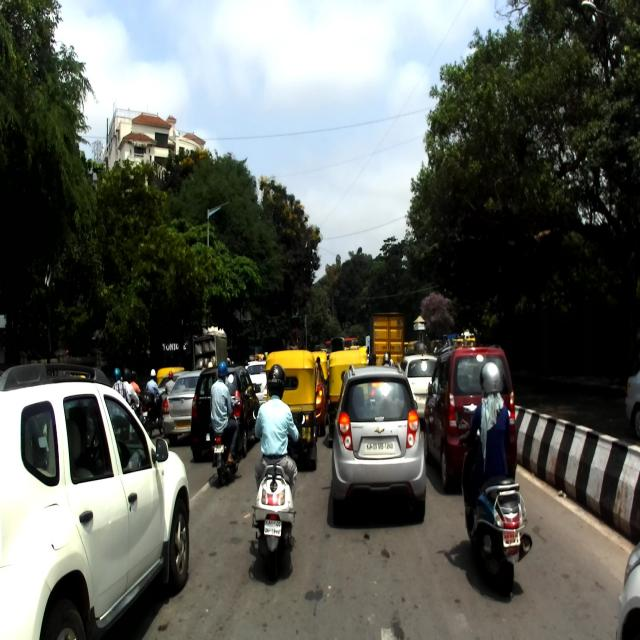autorickshaw: (264, 349, 320, 470), (327, 347, 375, 449)
car: (0, 376, 189, 640), (326, 362, 426, 525), (423, 340, 520, 492), (190, 366, 261, 460), (400, 354, 446, 431)
motorcycle: (210, 395, 241, 485)
scooter: (451, 411, 533, 595), (252, 410, 306, 580)
